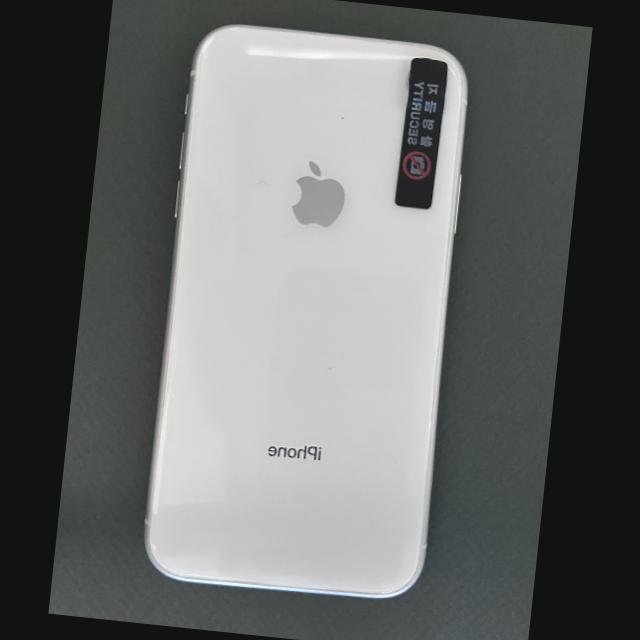phone: (145, 25, 467, 597)
sticker: (395, 57, 447, 208)
